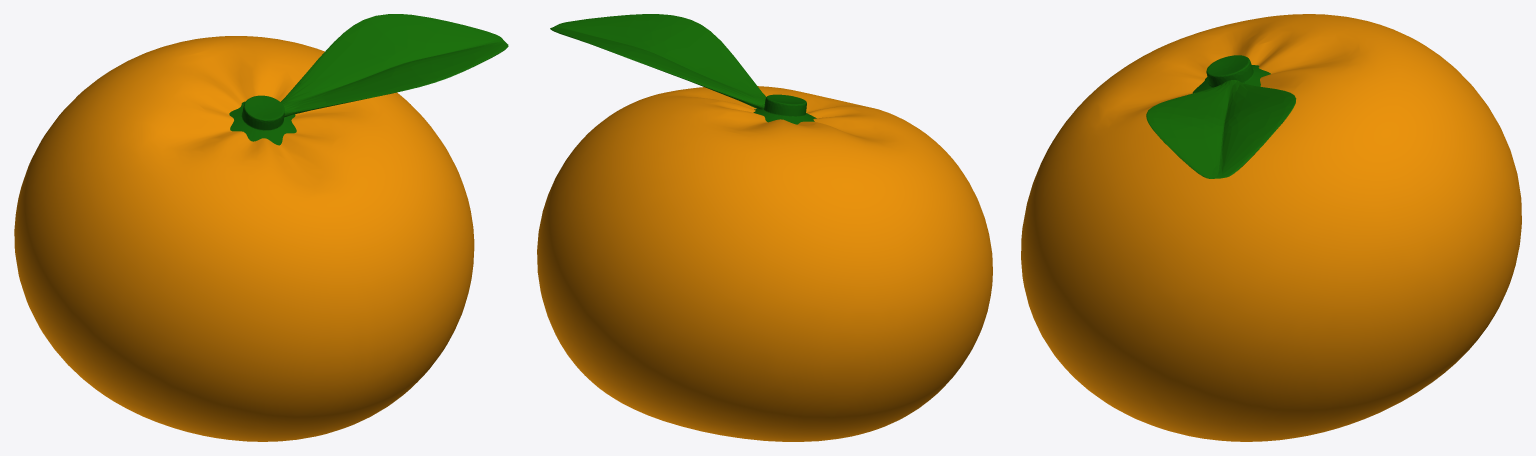
The model's file is orange.fbx.
3 views of the same model, side by side, from view 1: azimuth 30°, elevation 25°; view 2: azimuth 150°, elevation 25°; view 3: azimuth 270°, elevation 25° (orthographic). The views are drawn at different scales.
Parts seen in each view (by area): view 1: 平面; view 2: 平面; view 3: 平面.
Part boxes in pixels (x1,y1,x2,y2): 平面: [14, 14, 508, 441]; 平面: [537, 14, 992, 441]; 平面: [1021, 14, 1521, 441].
Size of the model in its own units: 2.12 by 1.59 by 1.93.
